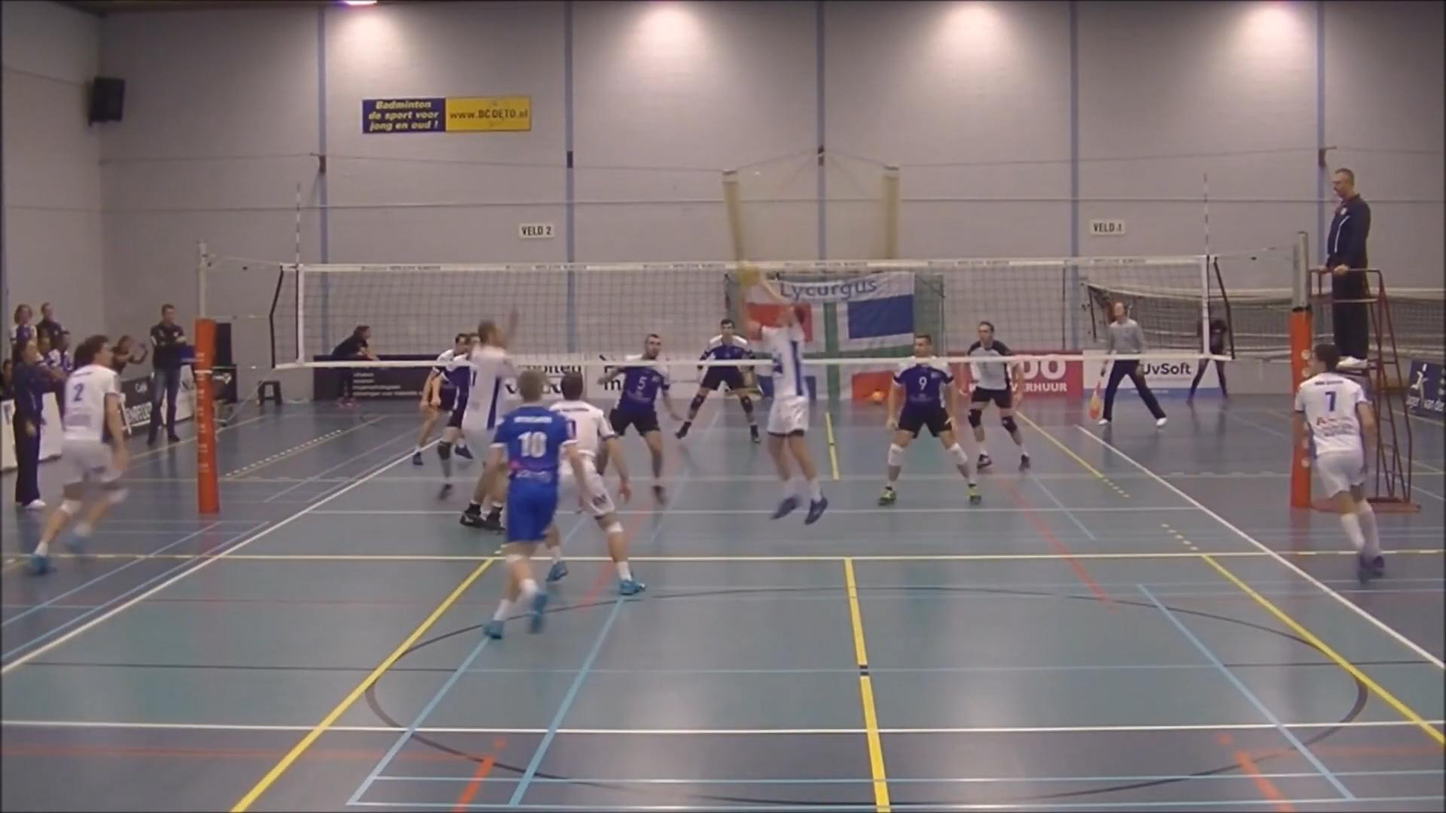alzata: (723, 259, 842, 528)
